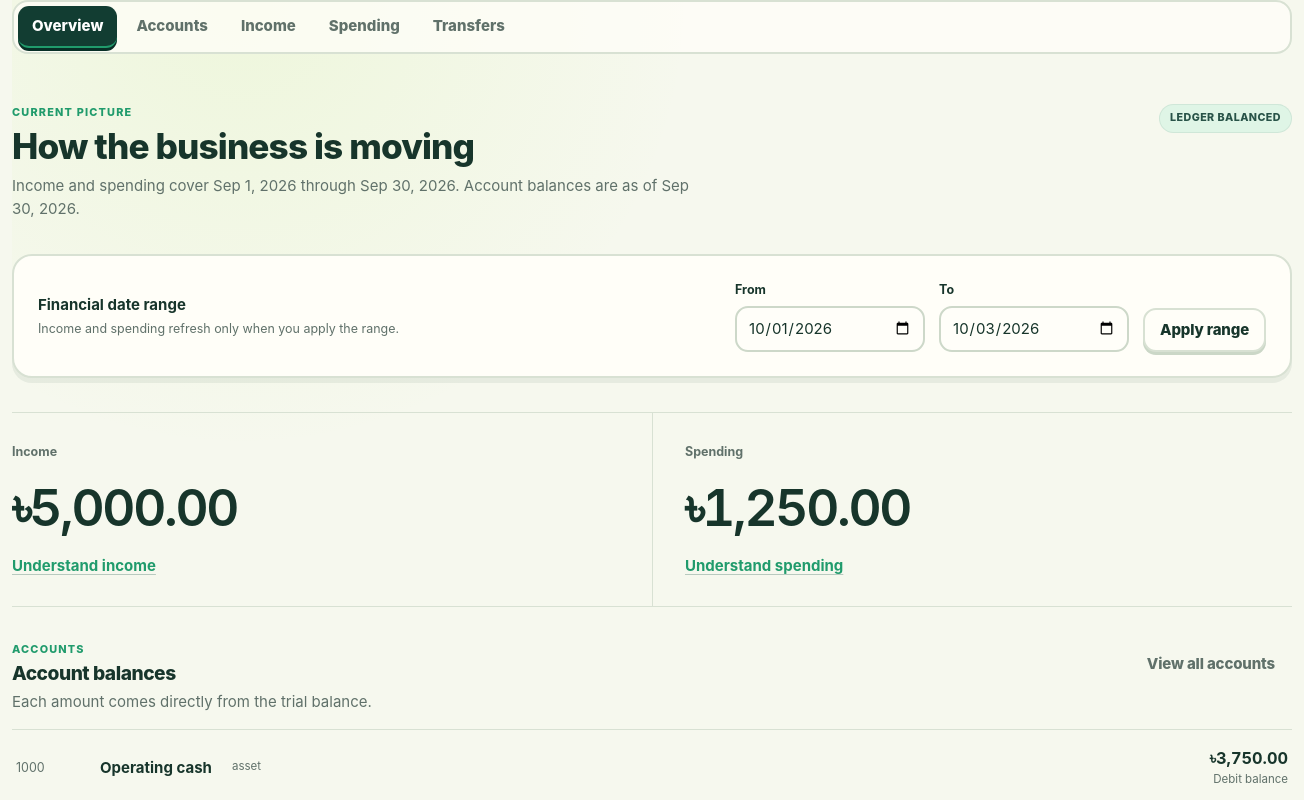
Test: Chatbooks BUSINESS Money workspace › presents income and spending aggregates with honest detail boundaries
The width and height of the screenshot is (1304, 800).
Expected: the heading "How the business is moving" is shown, [12,125,474,167]
Click the tab "Income": click(268, 27) [227,6,310,48]
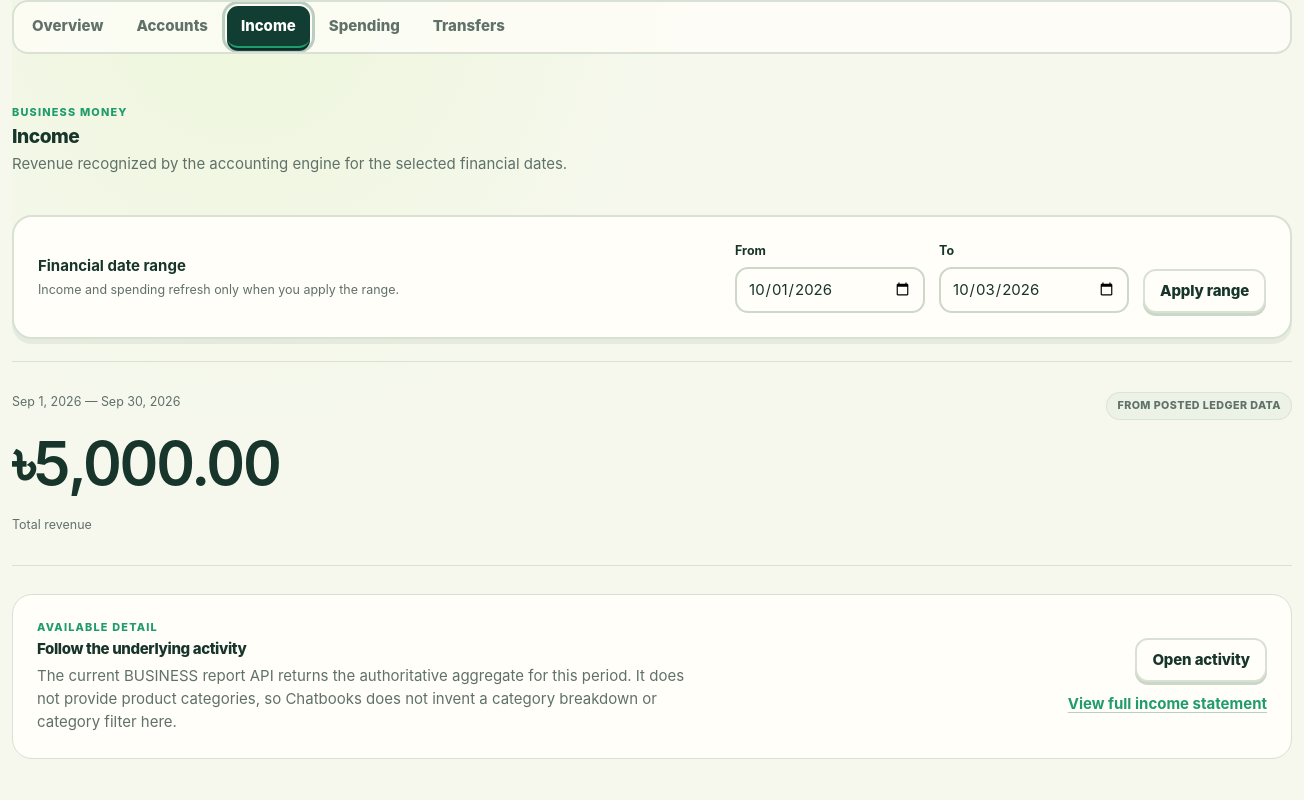
Expected: the text "৳5,000.00" is shown, [12,416,279,510]
Expected: the text "Total revenue" is shown, [12,517,92,532]
Expected: the text "does not provide product categories" is shown, [37,666,684,731]
Click the tab "Spending": click(364, 27) [315,6,414,48]
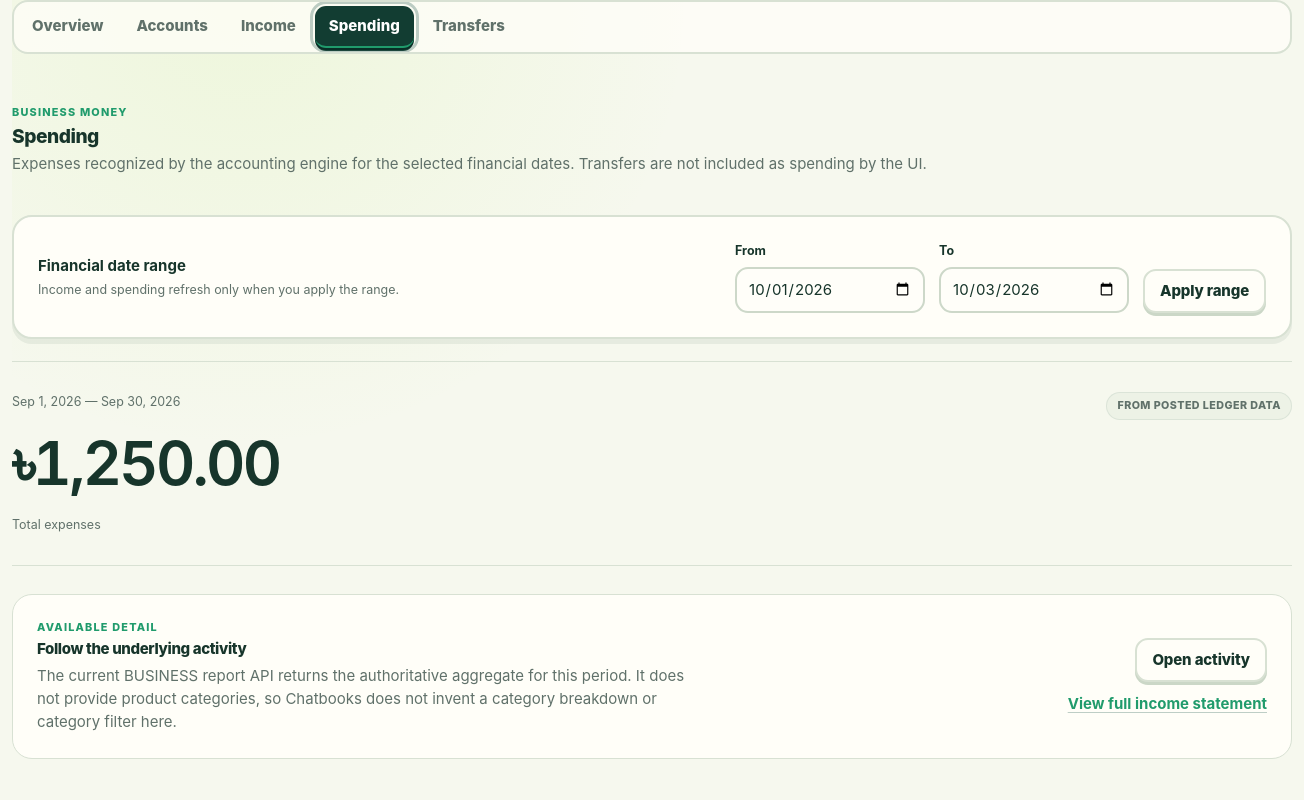
Expected: the text "Total expenses" is shown, [12,517,101,532]
Expected: the text "৳1,250.00" is shown, [12,416,279,510]
Expected: the text "Transfers are not included as spending by the UI" is shown, [12,154,927,173]
